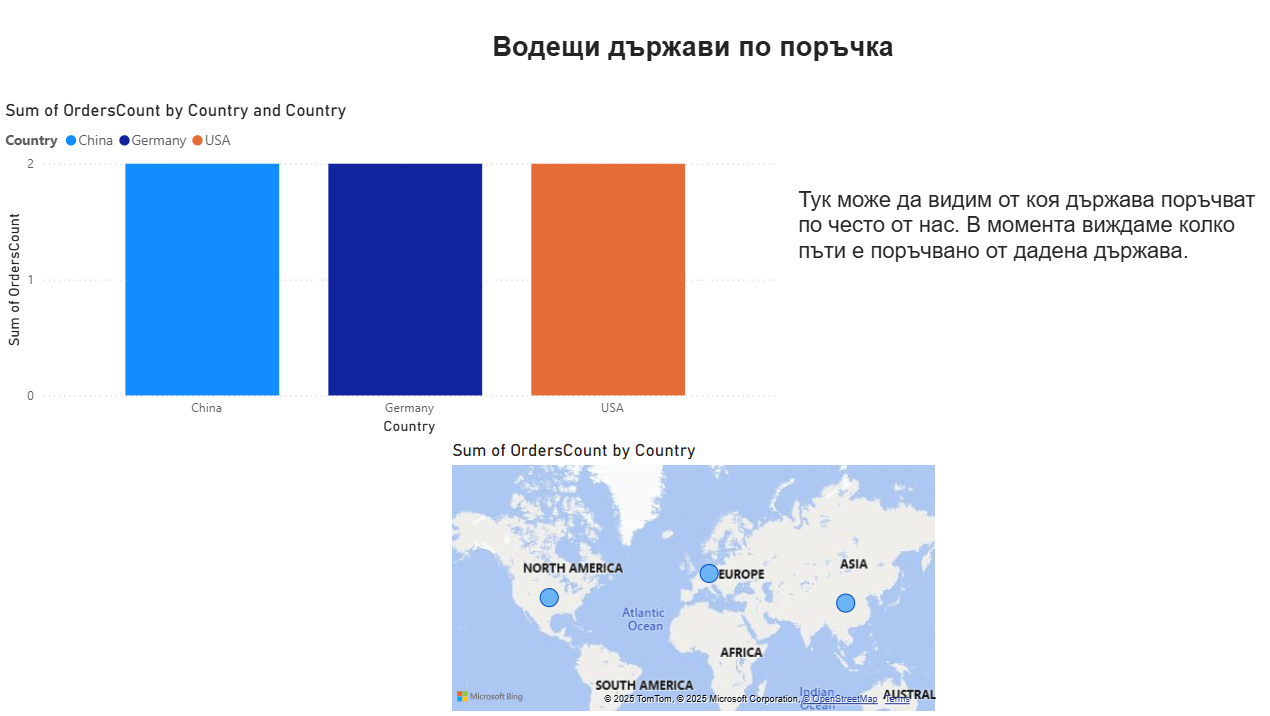

The dashboard page shown, as its layout file describes it:
{"tool":"powerbi","page":{"name":"Страница 2","canvas":[1280,720],"ordinal":1},"visuals":[{"type":"map","fields":{"Category":["V_OrdersBySellerCountry.Country"],"Size":["Sum(V_OrdersBySellerCountry.OrdersCount)"]},"box":[434.8,450.3,480.5,269.4],"z":0},{"type":"columnChart","fields":{"Category":["V_OrdersBySellerCountry.Country"],"Series":["V_OrdersBySellerCountry.Country"],"Y":["Sum(V_OrdersBySellerCountry.OrdersCount)"]},"box":[0,119.6,758.7,330.7],"z":1},{"type":"textbox","box":[771.3,199.4,480.5,85.6],"z":2},{"type":"textbox","box":[473.7,47.7,402.7,44.7],"z":3}]}

Visuals, with their boxes in screenshot pixels (x1, y1, x2, y2), scaled from the page's 1280x720 canvas onto the 1270x716 screenshot:
map - V_OrdersBySellerCountry.Country x Sum(V_OrdersBySellerCountry.OrdersCount): locate(431, 448, 908, 715)
columnChart - V_OrdersBySellerCountry.Country x V_OrdersBySellerCountry.Country: locate(0, 119, 753, 448)
textbox: locate(765, 198, 1242, 283)
textbox: locate(470, 47, 870, 92)
